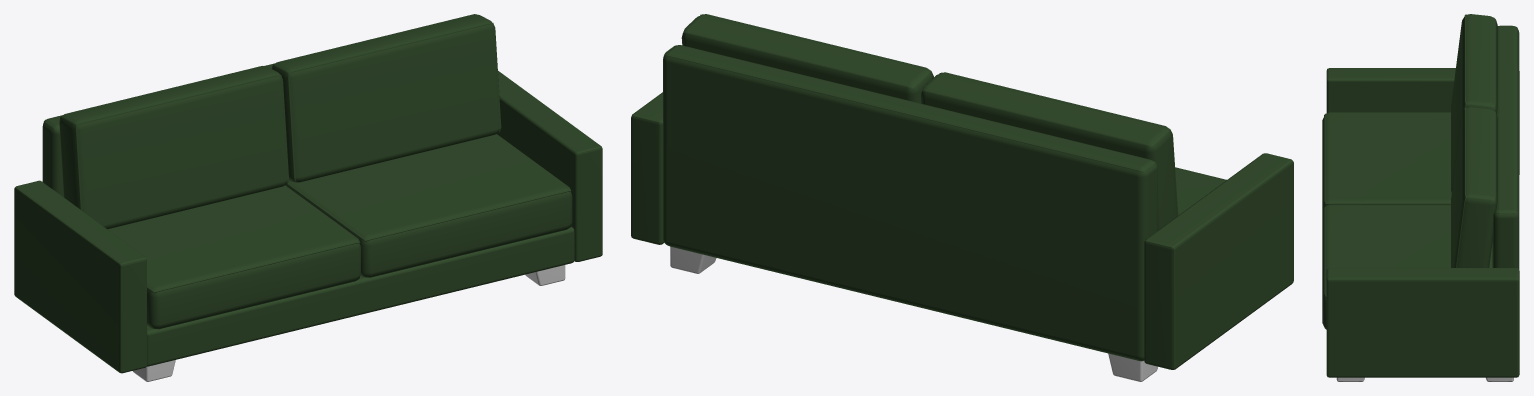
Rendered from Couch.fbx.
3 views of the same model, side by side, from view 1: azimuth 30°, elevation 25°; view 2: azimuth 150°, elevation 25°; view 3: azimuth 270°, elevation 25° (orthographic). The views are drawn at different scales.
Visible parts, largest first — view 1: Couch; view 2: Couch; view 3: Couch.
Boxes of the visible parts, x1,y1,x2,y2 form: Couch: (14,14,602,381); Couch: (631,14,1293,381); Couch: (1322,14,1519,381).
Bounding box in the file's own units: 226 × 92.94 × 88.66.
